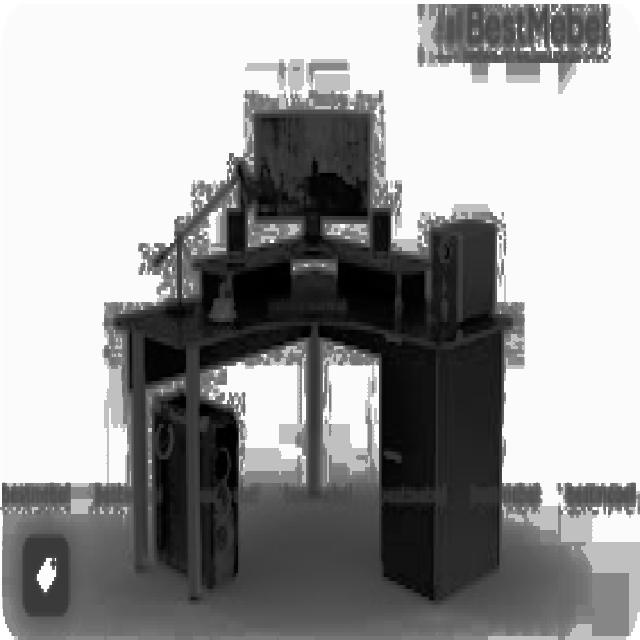table: (113, 267, 513, 601)
